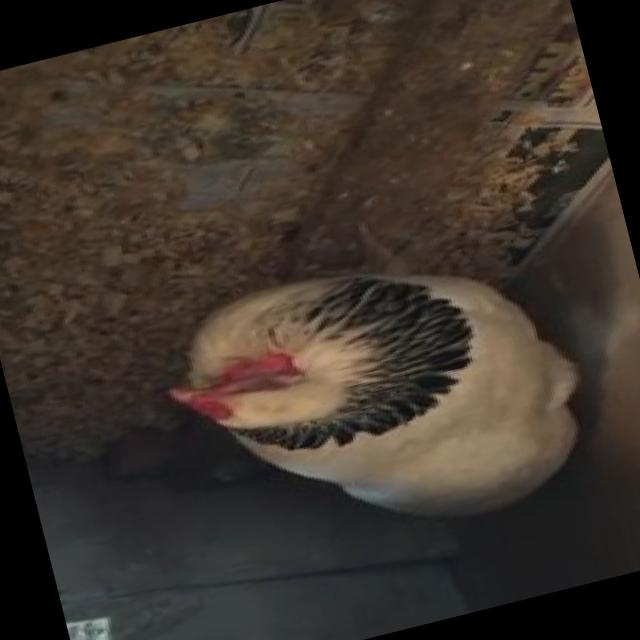Breathing: (142, 210, 610, 584)
